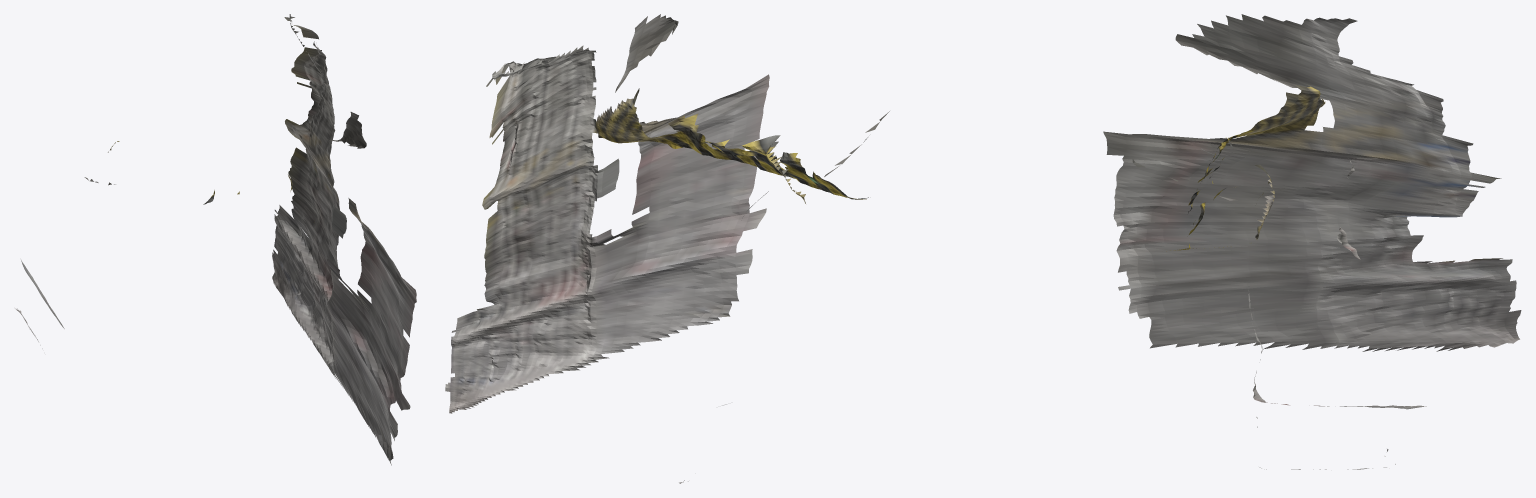
File: fence-observed.glb
The picture shows the model from 3 angles, left to right: view 1: azimuth 30°, elevation 25°; view 2: azimuth 150°, elevation 25°; view 3: azimuth 270°, elevation 25°; orthographic projection. The views are drawn at different scales.
Parts seen in each view (by area): view 1: geometry_0; view 2: geometry_0; view 3: geometry_0.
Boxes of the visible parts, x1,y1,x2,y2 form: geometry_0: [15, 14, 416, 465]; geometry_0: [445, 14, 889, 483]; geometry_0: [1103, 14, 1521, 469].
Size of the model in its own units: 4.04 by 4.24 by 5.7.
